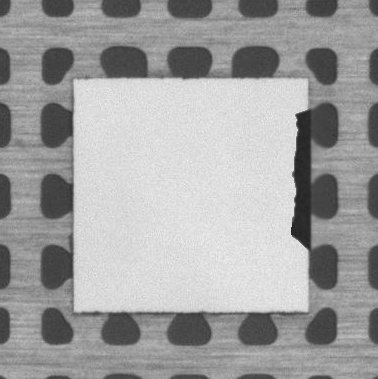DIE_BROKEN: (289, 103, 313, 248)
